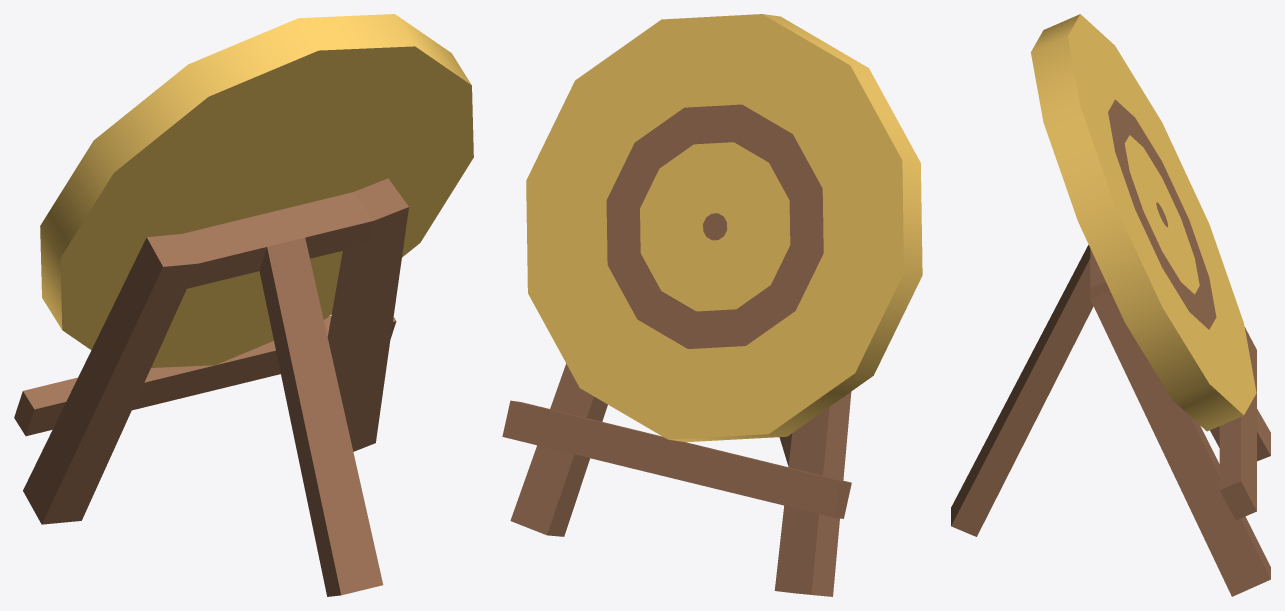
The model's file is Alvo_Cavalete.fbx.
The picture shows the model from 3 angles, left to right: view 1: azimuth 30°, elevation 25°; view 2: azimuth 150°, elevation 25°; view 3: azimuth 270°, elevation 25°; orthographic projection. The views are drawn at different scales.
Visible parts, largest first — view 1: Alvo_Cavalete; view 2: Alvo_Cavalete; view 3: Alvo_Cavalete.
Boxes of the visible parts, x1,y1,x2,y2 form: Alvo_Cavalete: (14,14,473,596); Alvo_Cavalete: (502,14,922,596); Alvo_Cavalete: (951,14,1270,596).
Bounding box in the file's own units: 89.61 × 111 × 65.61.
